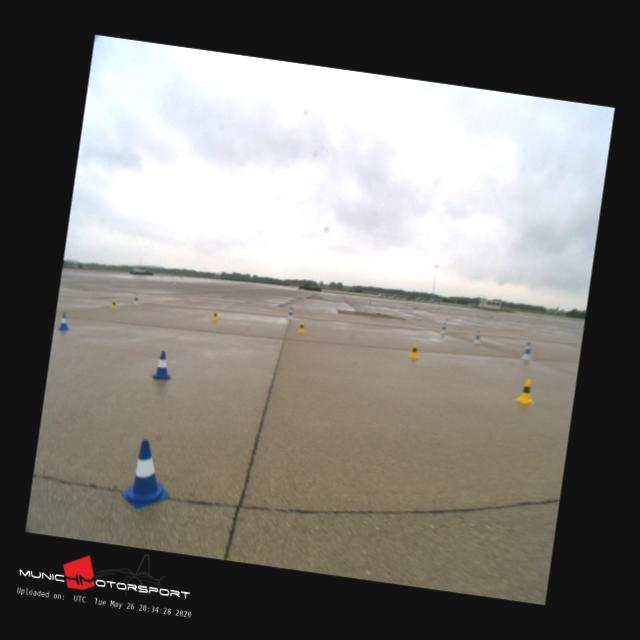blue_cone: (120, 438, 174, 512), (151, 350, 174, 380), (58, 314, 71, 331)
yellow_cone: (516, 378, 536, 404), (410, 343, 420, 358), (298, 322, 306, 332), (110, 299, 118, 309), (212, 310, 219, 321)
